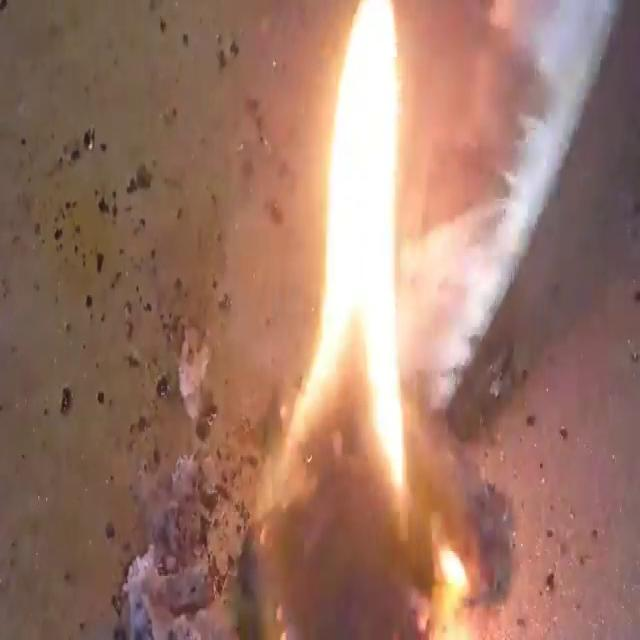Fire: (4, 2, 633, 636), (284, 4, 413, 518)
